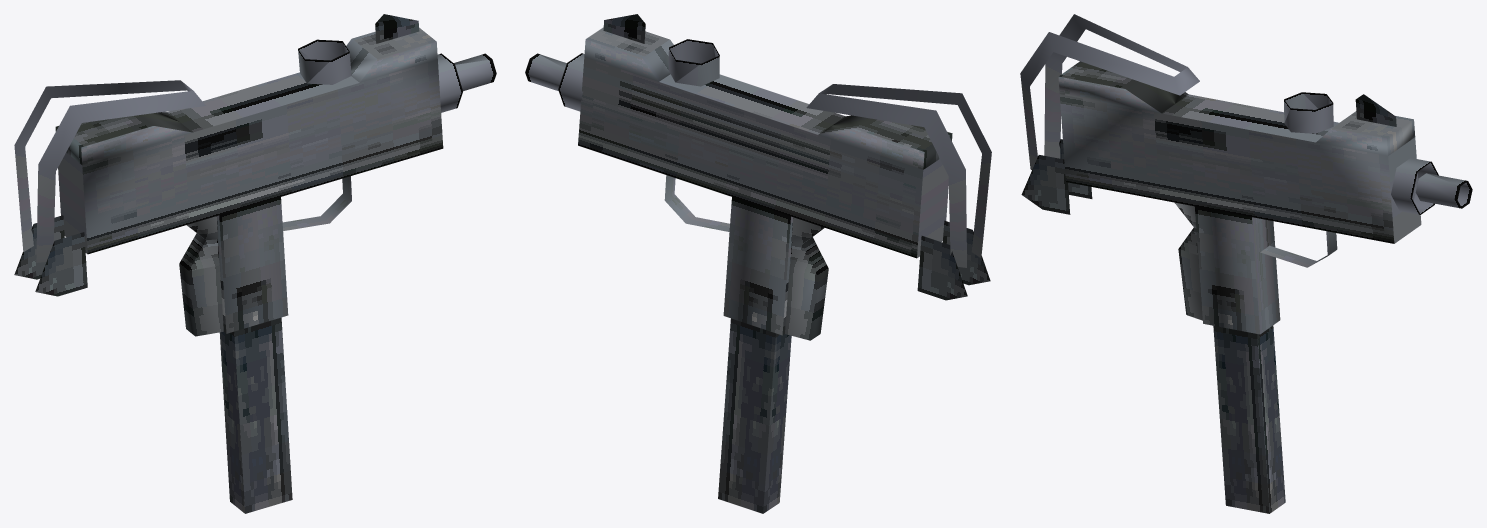
Rendered from Ingramsl.fbx.
3 renders of one model, left to right at view 1: azimuth 30°, elevation 25°; view 2: azimuth 150°, elevation 25°; view 3: azimuth 330°, elevation 25°, orthographic. The views are drawn at different scales.
Parts seen in each view (by area): view 1: ingramsl; view 2: ingramsl; view 3: ingramsl.
Part boxes in pixels (bbox=[...]): ingramsl: bbox=[14, 14, 496, 513]; ingramsl: bbox=[525, 14, 991, 513]; ingramsl: bbox=[1020, 14, 1472, 513].
Size of the model in its own units: 38.79 by 37.32 by 5.25.
Materials: 1 (1 with a texture image).
